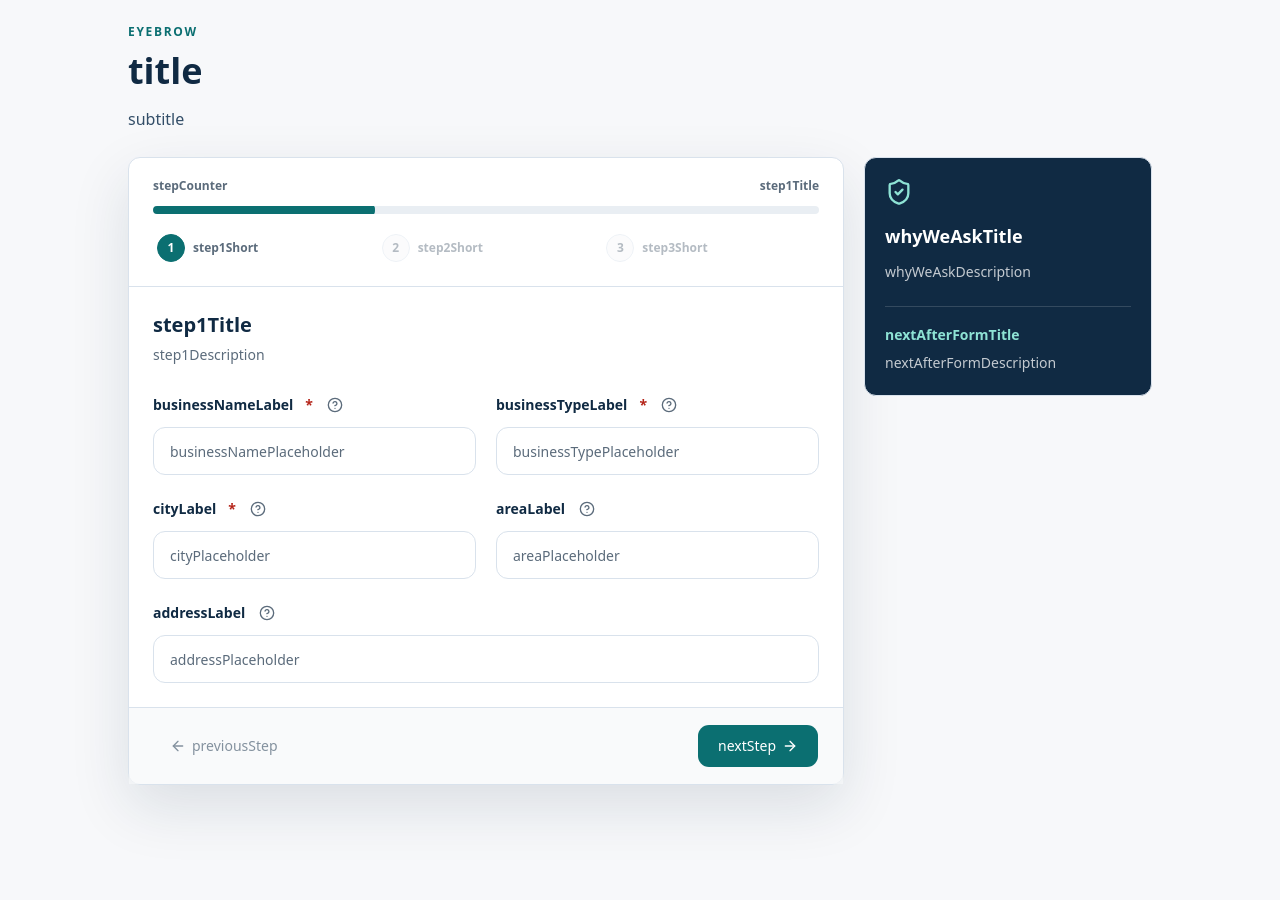
Test: IntakeForm › validates required fields
Click the button "nextStep": point(758, 746) [697,724,819,768]
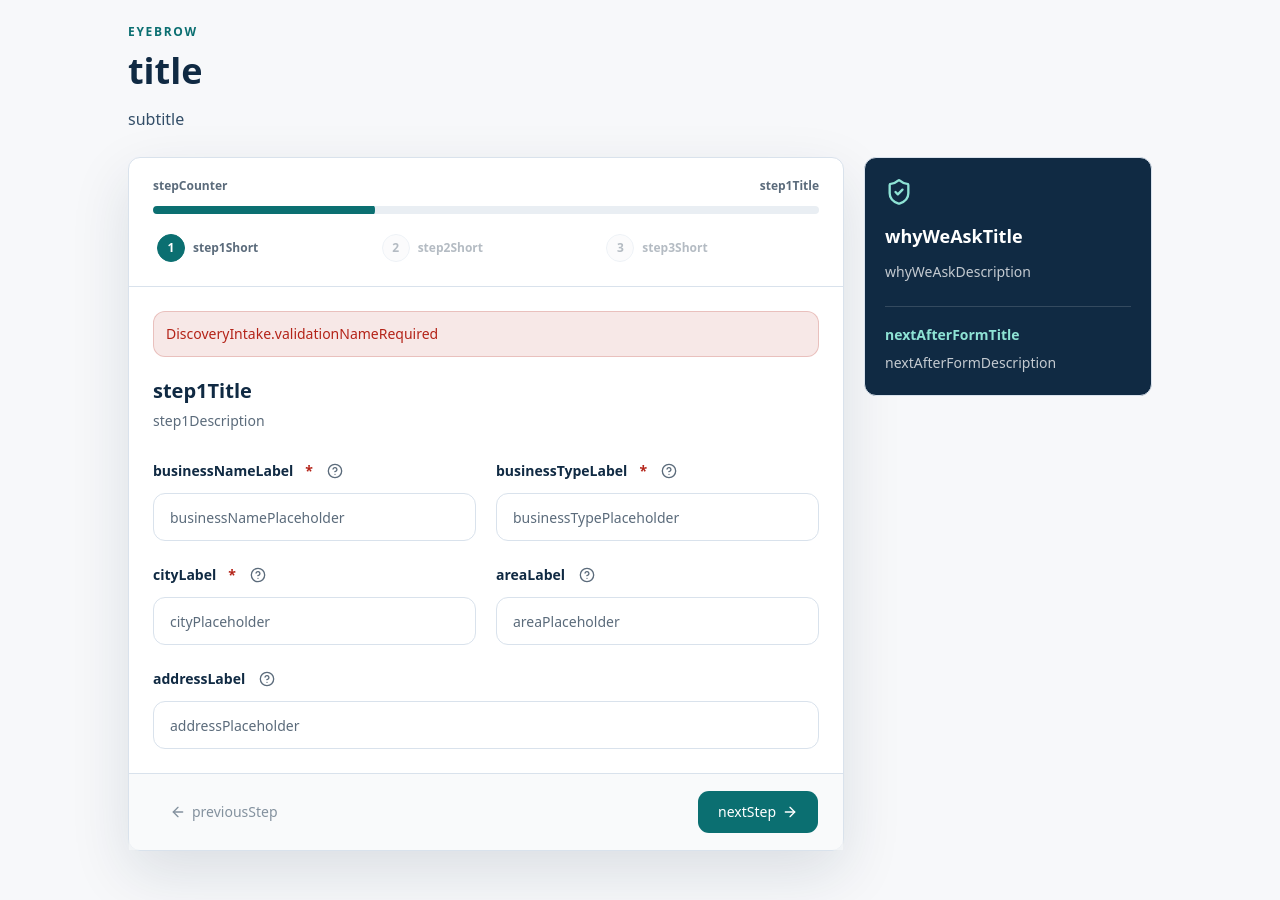
Check: the text "DiscoveryIntake.validationNameRequired" is shown, box [153,311,819,357]
